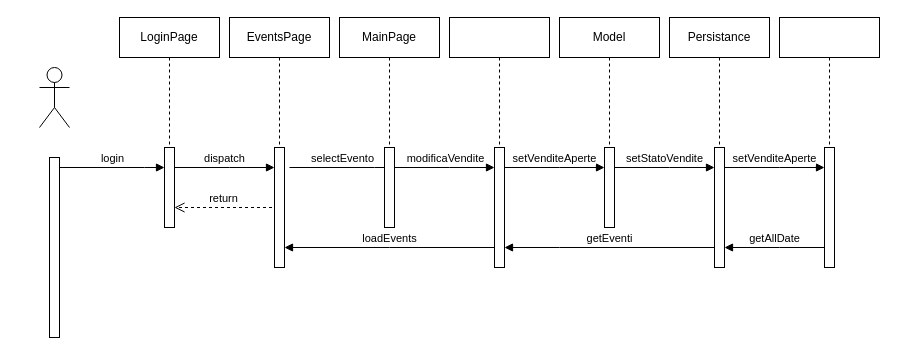
Some shapes in this 897 by 355 pixel diagram are drawn without their labels. The centre of each missing label's shape, as x and y in pixels:
Controller: pixel 499 122
EventoDAO: pixel 829 122
Organizzatore: pixel 54 97
